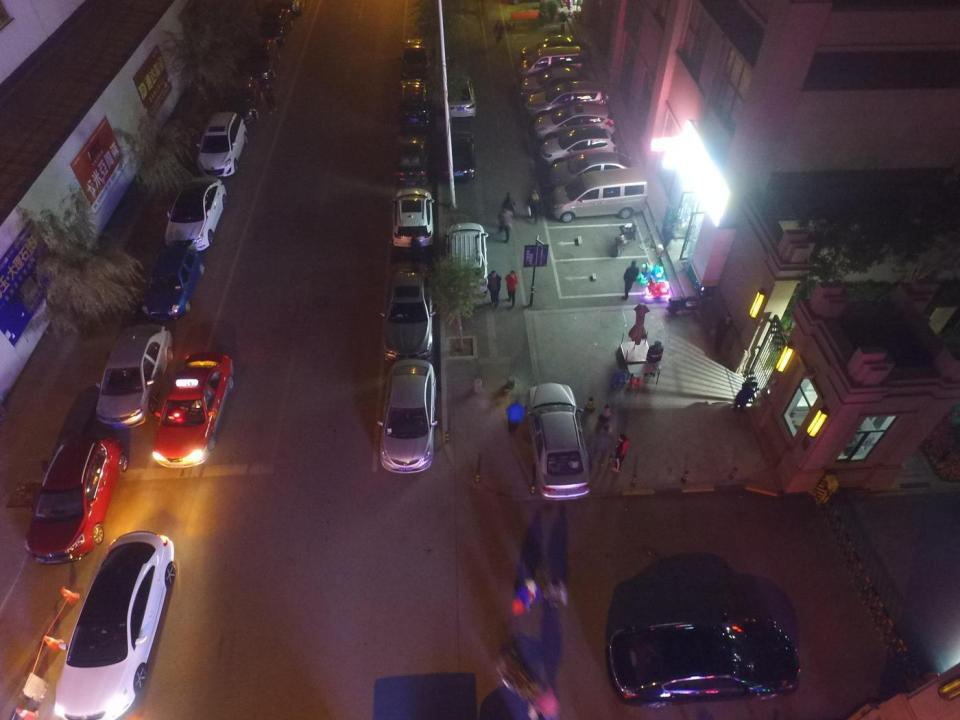car: (55, 530, 175, 720), (608, 612, 800, 710), (26, 436, 126, 564), (154, 352, 233, 467), (96, 324, 173, 430), (527, 383, 588, 500), (378, 358, 438, 474), (380, 262, 436, 362), (163, 176, 227, 251), (143, 245, 205, 319), (197, 112, 247, 178), (552, 152, 630, 194), (535, 104, 615, 141), (390, 190, 434, 256), (540, 128, 618, 165), (521, 66, 594, 99), (219, 73, 262, 121), (521, 35, 591, 62), (239, 38, 280, 81), (396, 130, 427, 185), (442, 131, 474, 180), (442, 75, 475, 118), (259, 8, 294, 46), (400, 38, 430, 80), (271, 1, 306, 15)
van: (551, 168, 647, 223), (444, 222, 488, 297), (526, 81, 608, 121), (519, 45, 582, 80), (398, 80, 428, 128)
